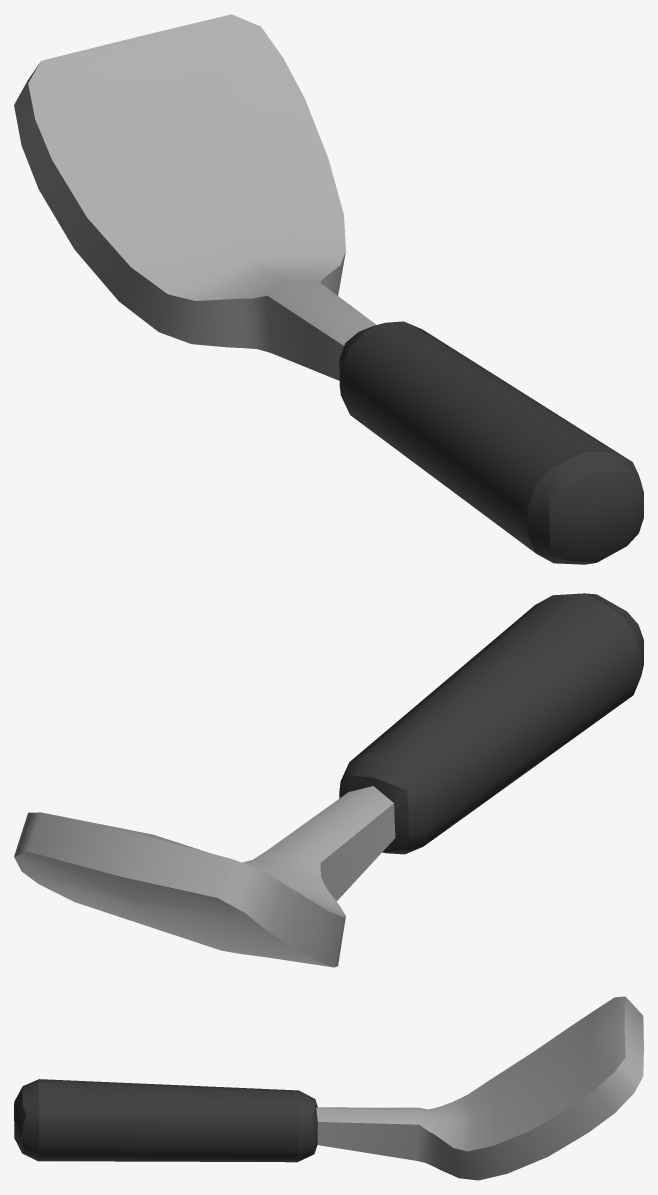
The model's file is Spatula_01.fbx.
3 views of the same model, one above another, from view 1: azimuth 30°, elevation 25°; view 2: azimuth 150°, elevation 25°; view 3: azimuth 270°, elevation 25° (orthographic). The views are drawn at different scales.
Parts seen in each view (by area): view 1: Spatula_01; view 2: Spatula_01; view 3: Spatula_01.
Part boxes in pixels (x1=…): Spatula_01: x1=14, y1=14, x2=643, y2=564; Spatula_01: x1=14, y1=593, x2=643, y2=967; Spatula_01: x1=14, y1=996, x2=643, y2=1180.
Bounding box in the file's own units: 24.35 × 18.72 × 80.26.
